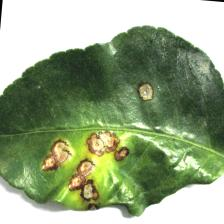canker: (16, 86, 162, 216)
